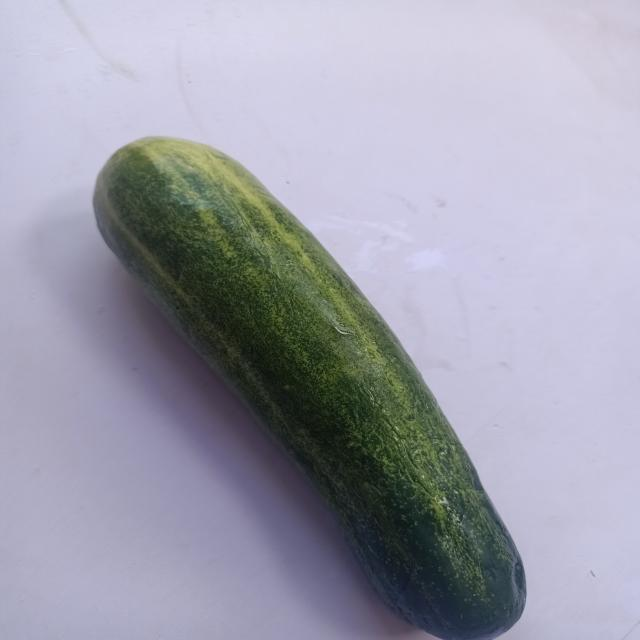Cucumber: (77, 93, 575, 638)
